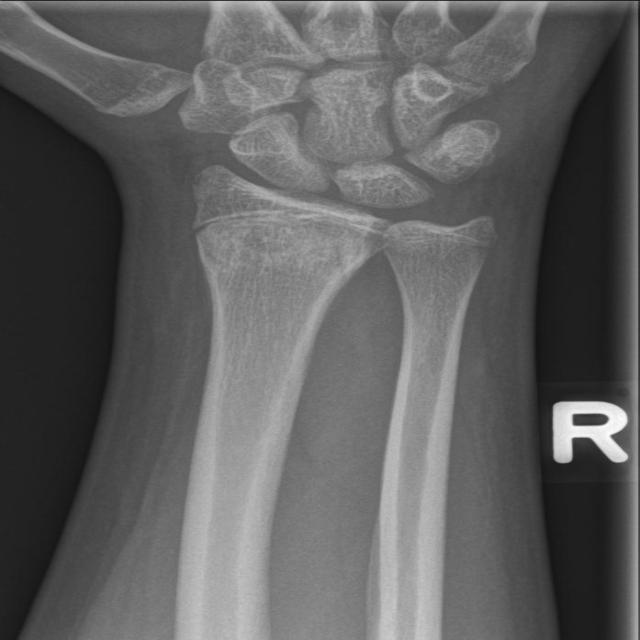fracture: (180, 195, 400, 267), (373, 208, 509, 264)
